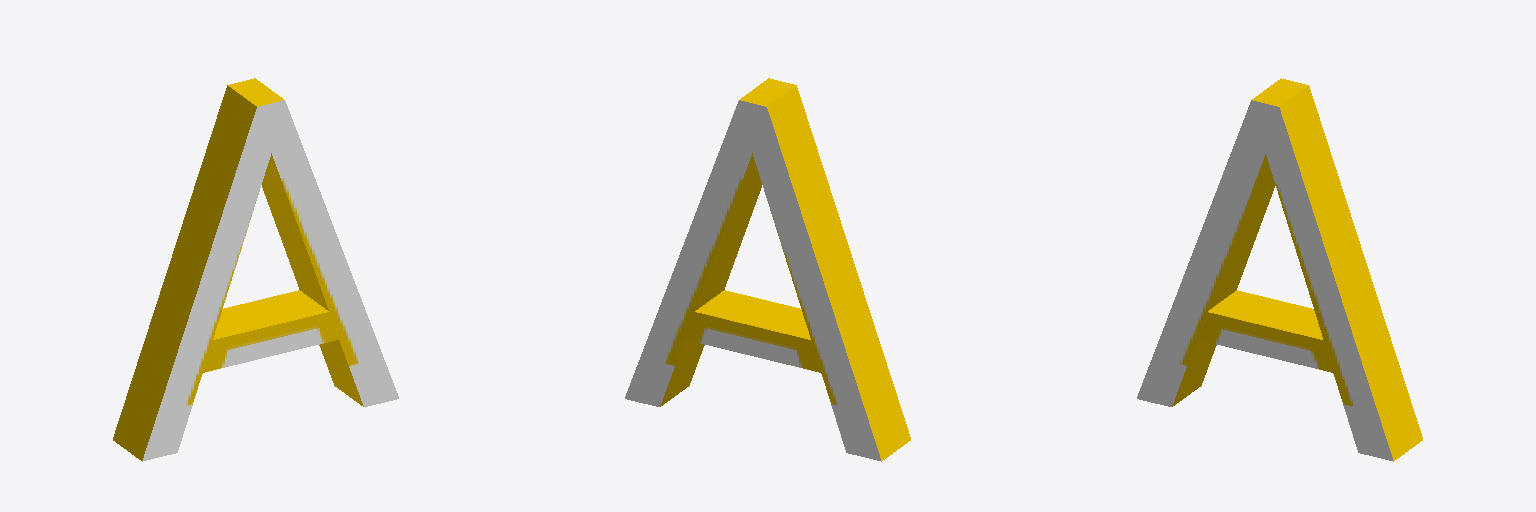
3 views of the same model, side by side, from view 1: azimuth 30°, elevation 25°; view 2: azimuth 150°, elevation 25°; view 3: azimuth 330°, elevation 25° (orthographic).
Size of the model in its own units: 66.47 by 80.63 by 13.29.
Materials: 5 (1 with a texture image).